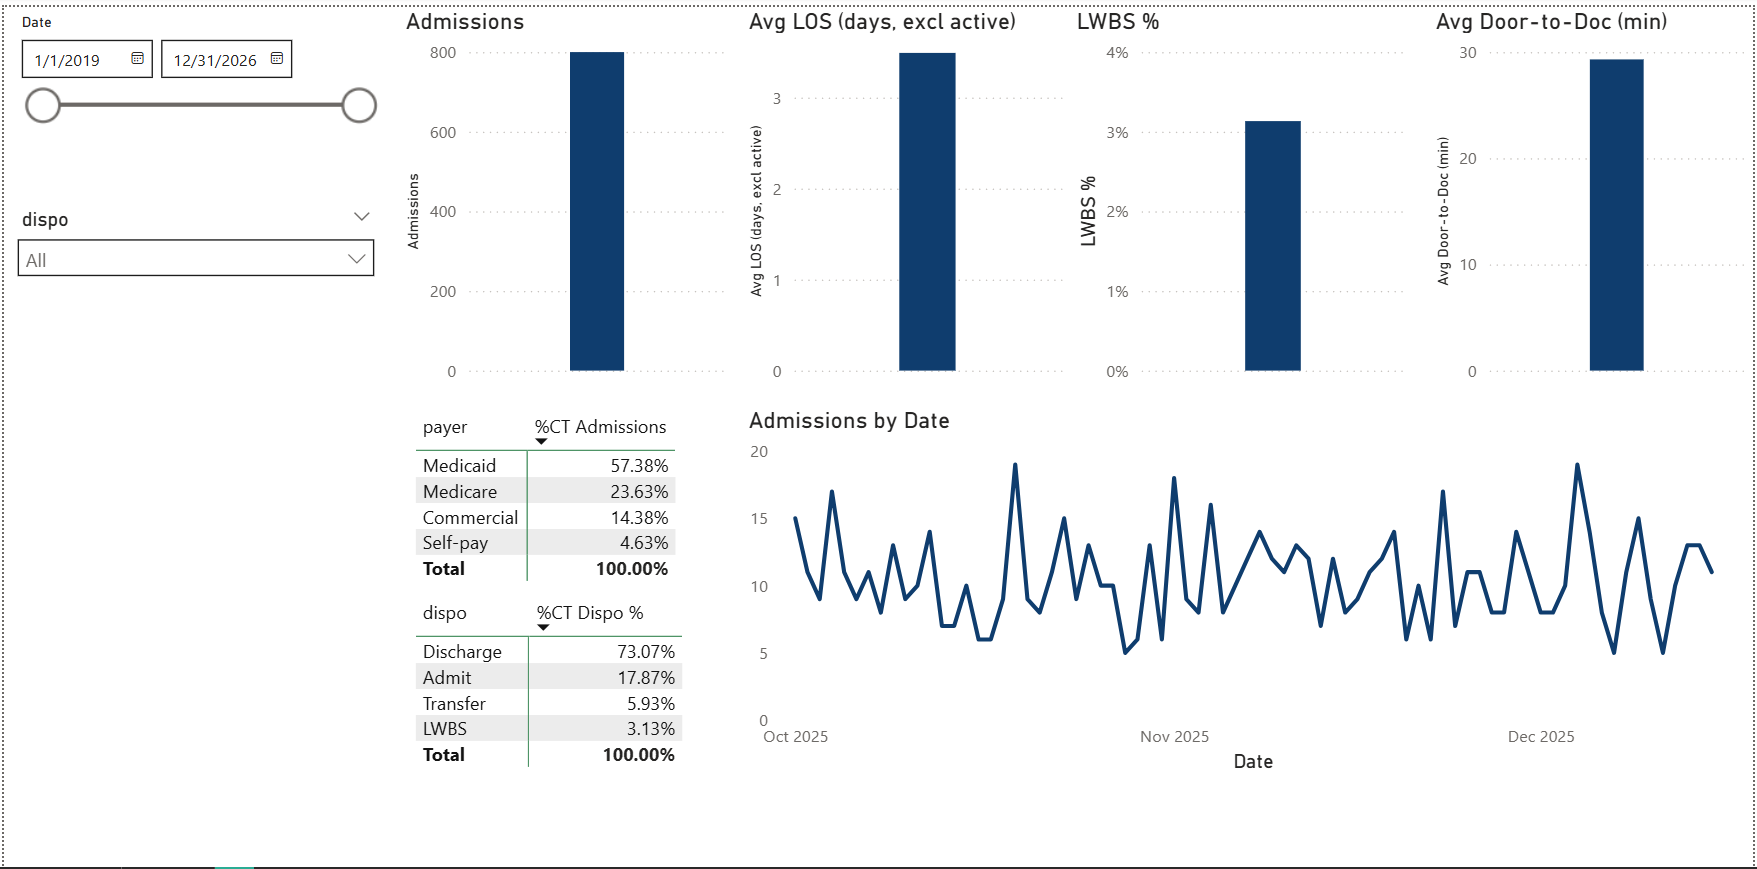

What the dashboard file says about the page in this screenshot:
{"tool":"powerbi","page":{"name":"Summary","canvas":[1280,720],"ordinal":0},"visuals":[{"type":"clusteredColumnChart","fields":{"Y":["_Measures.Admissions"]},"box":[289.1,0,245.1,280.1],"z":0},{"type":"clusteredColumnChart","fields":{"Y":["_Measures.Avg LOS (days, excl active)"]},"box":[540.4,0,239.7,280.1],"z":1000},{"type":"clusteredColumnChart","fields":{"Y":["_Measures.LWBS %"]},"box":[780.1,0,251.4,280.1],"z":2000},{"type":"clusteredColumnChart","fields":{"Y":["_Measures.Avg Door-to-Doc (min)"]},"box":[1043.2,0,237,280.1],"z":3000},{"type":"slicer","fields":{"Values":["Calendar.Date"]},"box":[0,0,281,110.4],"z":4000},{"type":"lineChart","fields":{"Category":["Calendar.Date"],"Y":["_Measures.Admissions"]},"box":[540.4,291.8,739.8,272.9],"z":5000},{"type":"pivotTable","fields":{"Rows":["admissions.payer"],"Values":["_Measures.Admissions"]},"box":[296.3,291.8,244.2,136.5],"z":7000},{"type":"pivotTable","fields":{"Rows":["ed_visits.dispo"],"Values":["_Measures.Dispo %"]},"box":[296.3,428.2,237.9,136.5],"z":8000},{"type":"slicer","fields":{"Values":["ed_visits.dispo"]},"box":[0,141.8,281,149.9],"z":8001}]}

Visuals, with their boxes on the page's 1280x720 design canvas (x1, y1, x2, y2). These are canvas units, not pixel positions in the 1757x869 screenshot, which may show the page scaled, cropped or inside an application window:
clusteredColumnChart - _Measures.Admissions: box(289, 0, 534, 280)
clusteredColumnChart - _Measures.Avg LOS (days, excl active): box(540, 0, 780, 280)
clusteredColumnChart - _Measures.LWBS %: box(780, 0, 1032, 280)
clusteredColumnChart - _Measures.Avg Door-to-Doc (min): box(1043, 0, 1280, 280)
slicer - Calendar.Date: box(0, 0, 281, 110)
lineChart - Calendar.Date x _Measures.Admissions: box(540, 292, 1280, 565)
pivotTable - admissions.payer x _Measures.Admissions: box(296, 292, 540, 428)
pivotTable - ed_visits.dispo x _Measures.Dispo %: box(296, 428, 534, 565)
slicer - ed_visits.dispo: box(0, 142, 281, 292)
